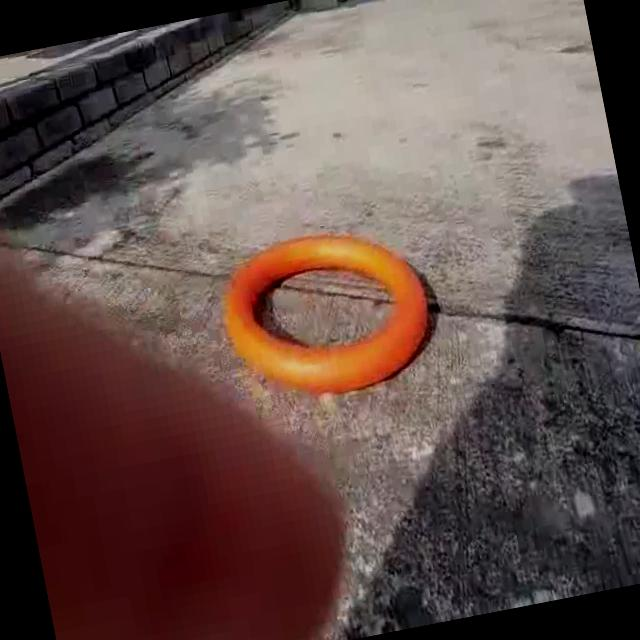note: (217, 214, 450, 418)
